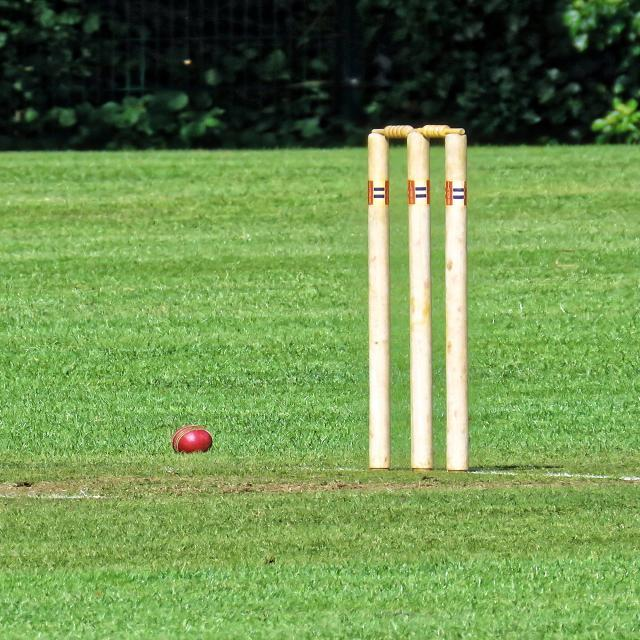stumps: (358, 113, 477, 475)
